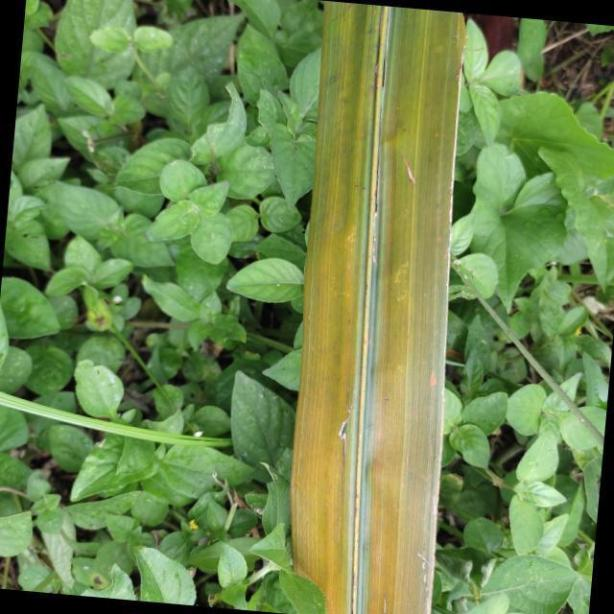Megnesium: (286, 0, 462, 614)
